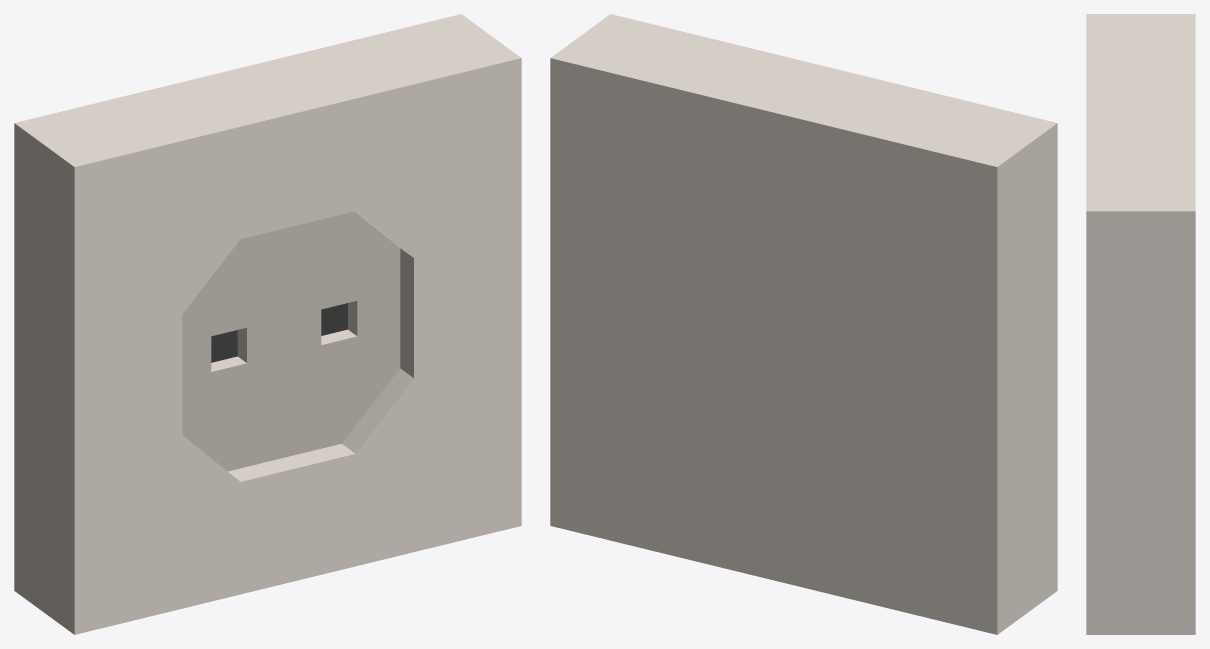
Rendered from socket1.fbx.
The picture shows the model from 3 angles, left to right: view 1: azimuth 30°, elevation 25°; view 2: azimuth 150°, elevation 25°; view 3: azimuth 270°, elevation 25°; orthographic projection. The views are drawn at different scales.
Visible parts, largest first — view 1: Socket1_C1; view 2: Socket1_C1; view 3: Socket1_C1.
Part boxes in pixels (x1,y1,x2,y2): Socket1_C1: (14, 14, 521, 634); Socket1_C1: (550, 14, 1057, 634); Socket1_C1: (1086, 14, 1195, 634).
Bounding box in the file's own units: 8.44 × 8.44 × 1.97.
